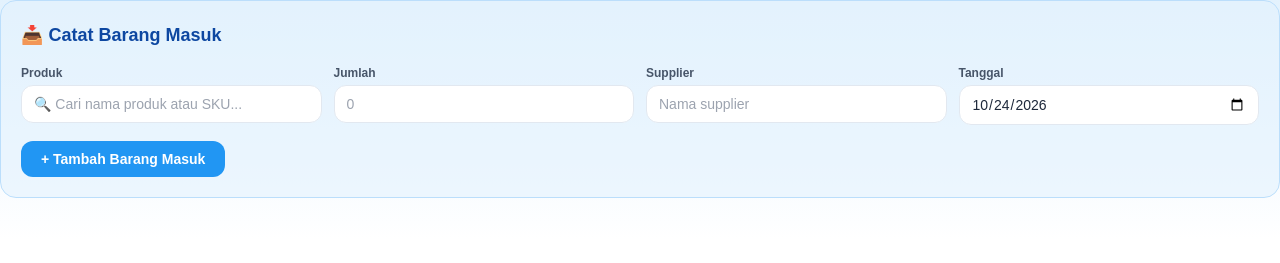
Scenario: BarangMasukForm › shows error when submitting empty form
This screenshot has width=1280, height=263.
Click the button "+ Tambah Barang Masuk" at coordinates (123, 159), box x1=21 y1=141 x2=225 y2=177
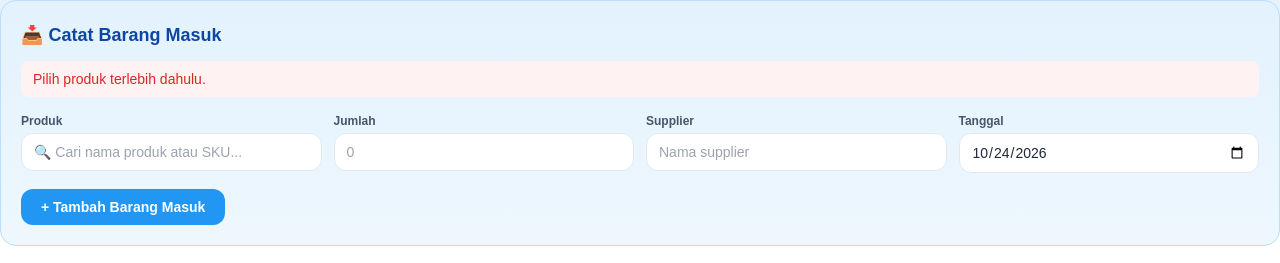
Now the message shows "Pilih produk terlebih dahulu", box x1=33 y1=71 x2=206 y2=87
